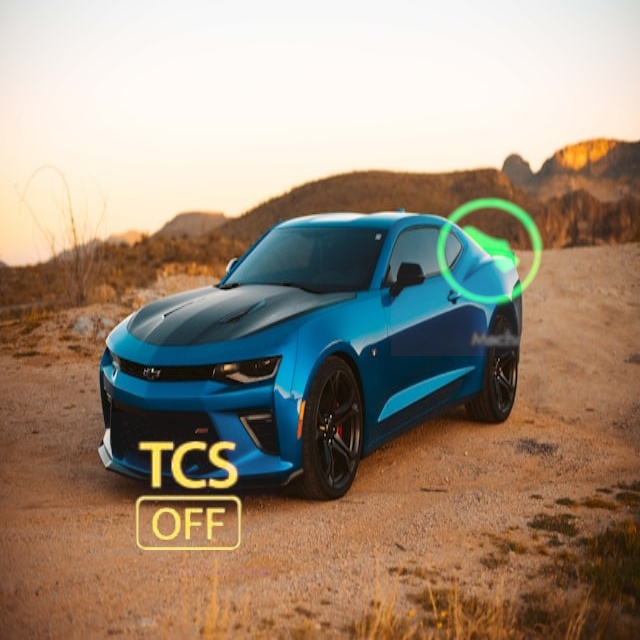symbol: (391, 150, 597, 356), (104, 412, 277, 585)
